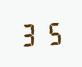five: (41, 20, 62, 45)
three: (19, 21, 40, 47)
